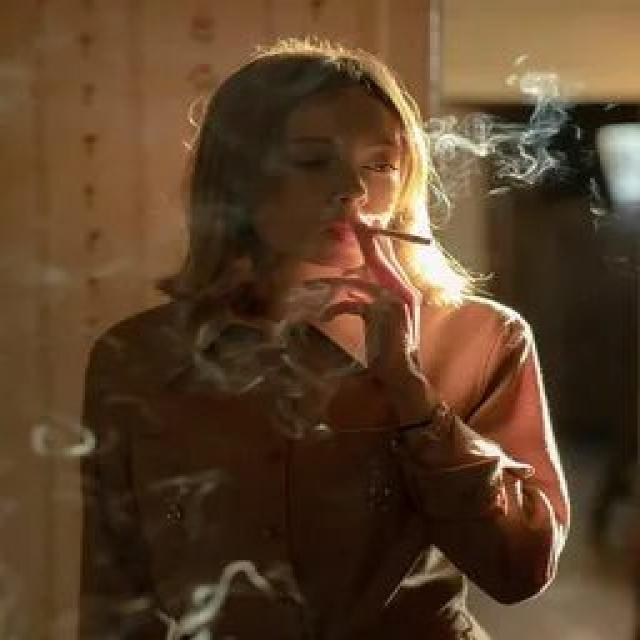smoke: (355, 220, 440, 254)
